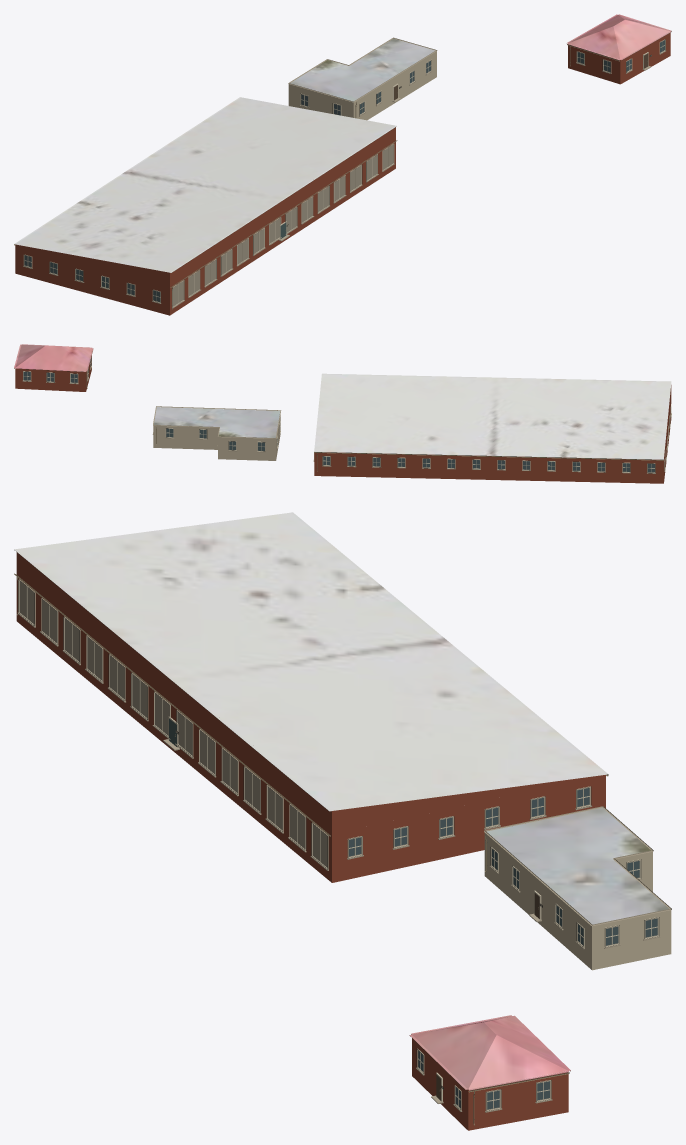
3 views of the same model, one above another, from view 1: azimuth 30°, elevation 25°; view 2: azimuth 150°, elevation 25°; view 3: azimuth 270°, elevation 25° (orthographic). The views are drawn at different scales.
Visible parts, largest first — view 1: -7_-1_270512522_7, -7_-1_270512523_8; view 2: -7_-1_270512522_7, -7_-1_270512523_8; view 3: -7_-1_270512522_7, -7_-1_270512523_8.
Part boxes in pixels (x1=…): -7_-1_270512522_7: x1=14, y1=14, x2=671, y2=315; -7_-1_270512523_8: x1=288, y1=51, x2=648, y2=120; -7_-1_270512522_7: x1=14, y1=344, x2=671, y2=483; -7_-1_270512523_8: x1=153, y1=415, x2=280, y2=460; -7_-1_270512522_7: x1=14, y1=512, x2=671, y2=1130; -7_-1_270512523_8: x1=436, y1=833, x2=671, y2=1100.
Bounding box in the file's own units: 120 × 7.28 × 57.4.
Materials: 12 (1 with a texture image).
